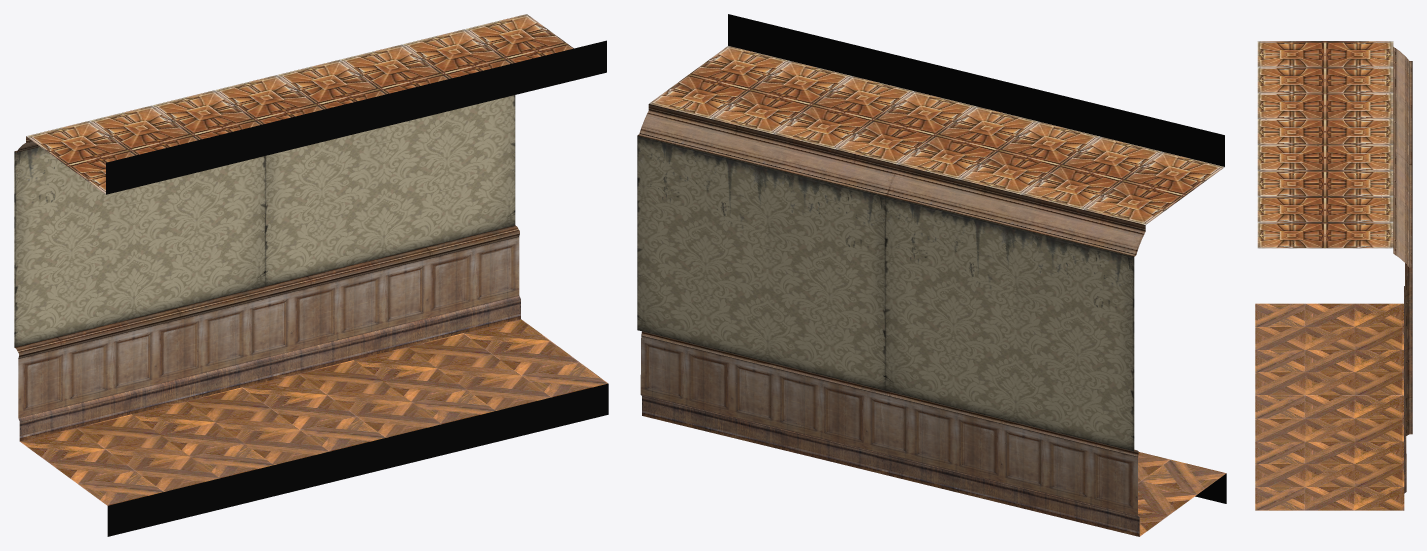
File: Corridor_01_Simple.FBX
3 views of the same model, side by side, from view 1: azimuth 30°, elevation 25°; view 2: azimuth 150°, elevation 25°; view 3: azimuth 270°, elevation 25° (orthographic). The views are drawn at different scales.
Parts seen in each view (by area): view 1: Corridor_Straight; view 2: Corridor_Straight; view 3: Corridor_Straight.
Boxes of the visible parts, bbox=[...] form: Corridor_Straight: bbox=[14, 14, 608, 536]; Corridor_Straight: bbox=[637, 14, 1226, 536]; Corridor_Straight: bbox=[1255, 41, 1412, 510].
Bounding box in the file's own units: 140 × 99.62 × 45.03.
Materials: 5 (4 with a texture image).
